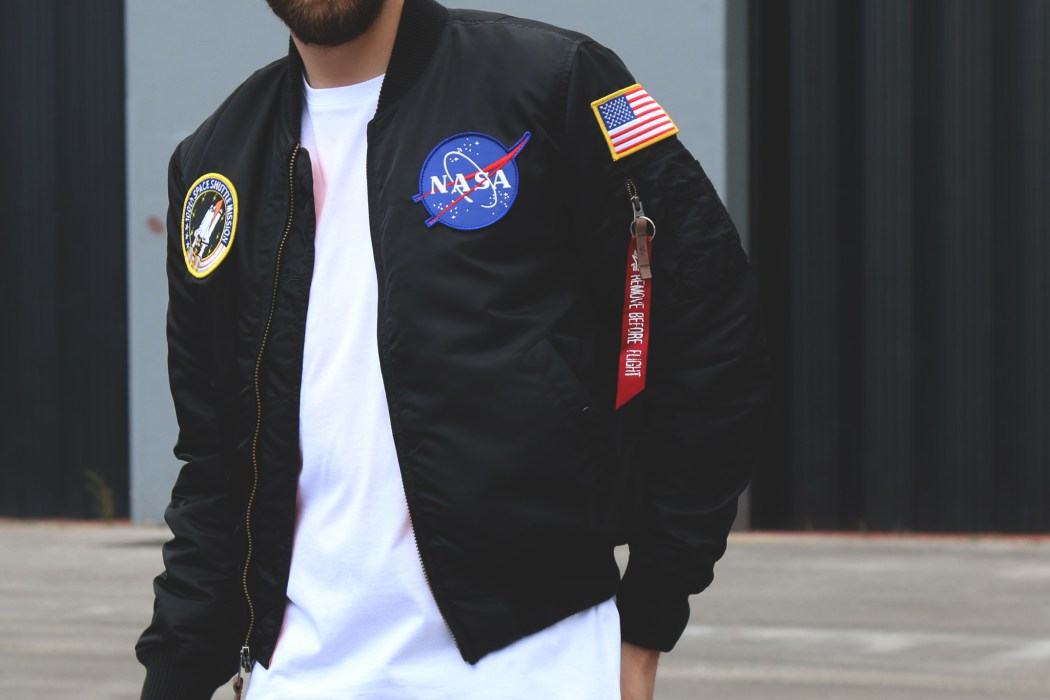NASA: (412, 125, 531, 236)
